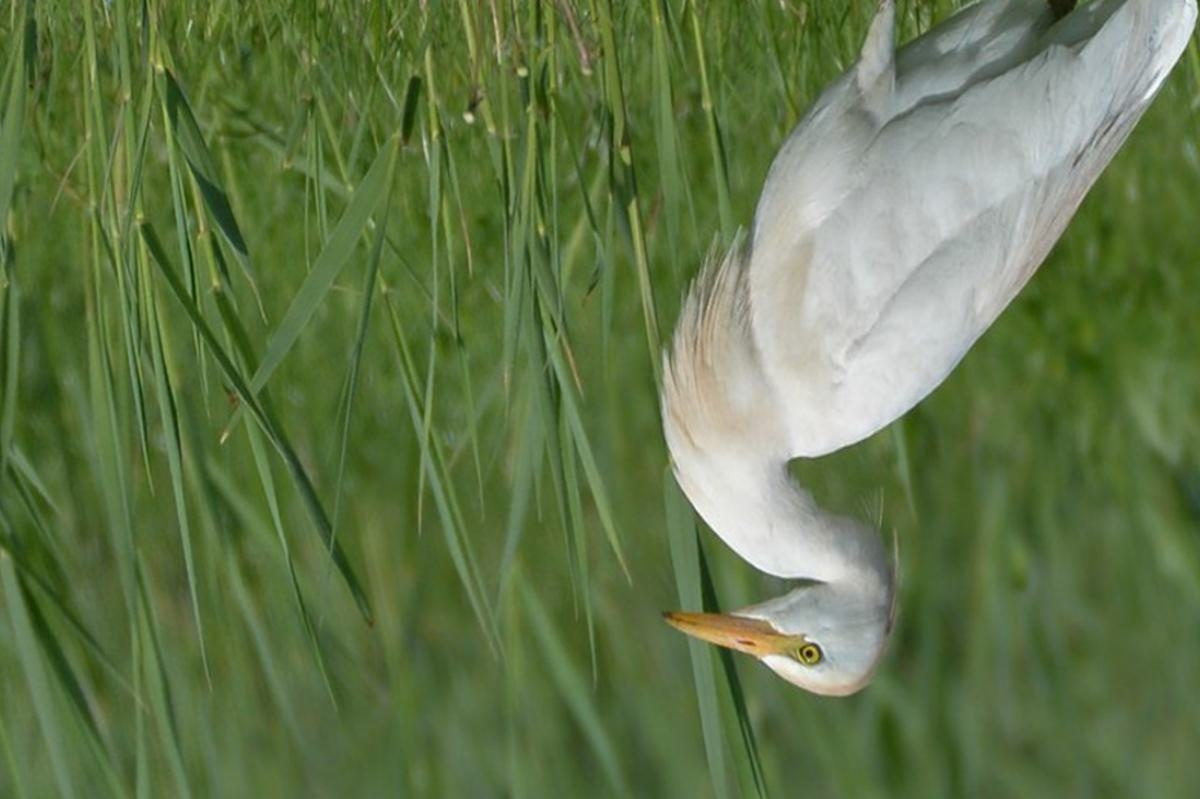egret: (649, 1, 1193, 705)
